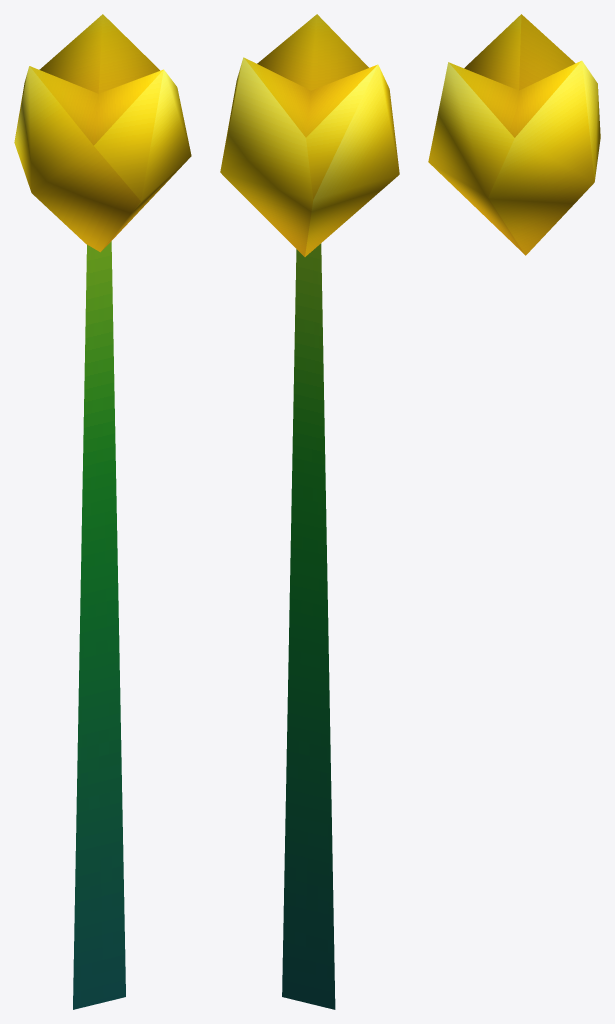
File: Flower_1B.fbx
3 views of the same model, side by side, from view 1: azimuth 30°, elevation 25°; view 2: azimuth 150°, elevation 25°; view 3: azimuth 270°, elevation 25° (orthographic).
Visible parts, largest first — view 1: Flower_1B; view 2: Flower_1B; view 3: Flower_1B.
Part boxes in pixels (left/top/right/bottom): Flower_1B: left=14, top=14, right=191, bottom=1009; Flower_1B: left=220, top=14, right=399, bottom=1009; Flower_1B: left=428, top=14, right=600, bottom=255.
Bounding box in the file's own units: 0.1119 × 0.6607 × 0.1083.
